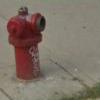Hydrant: (5, 2, 50, 84)
